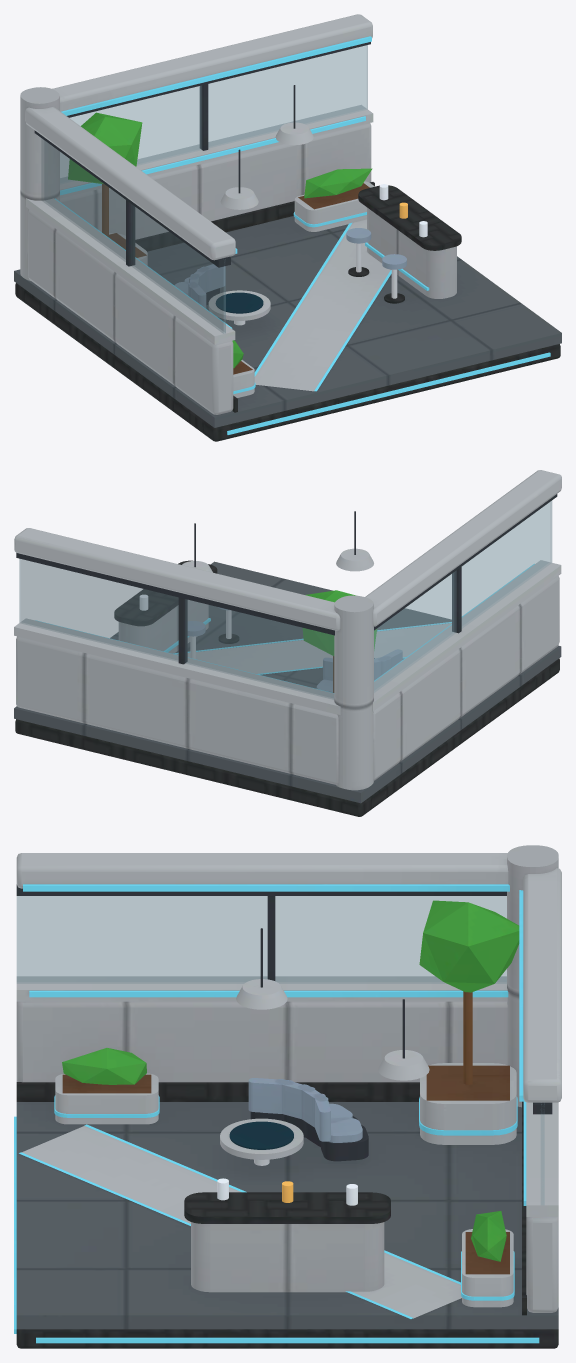
The model's file is enterprise_promenade.glb.
3 renders of one model, top to bottom at view 1: azimuth 30°, elevation 25°; view 2: azimuth 150°, elevation 25°; view 3: azimuth 270°, elevation 25°, orthographic. The views are drawn at different scales.
Visible parts, largest first — view 1: te_enterprise_promenade; view 2: te_enterprise_promenade; view 3: te_enterprise_promenade.
Part boxes in pixels (bbox=[...]): te_enterprise_promenade: bbox=[14, 14, 561, 441]; te_enterprise_promenade: bbox=[14, 470, 561, 816]; te_enterprise_promenade: bbox=[14, 845, 561, 1348].
Bounding box in the file's own units: 0.8621 × 0.472 × 0.849.
Materials: 2 (1 with a texture image).
